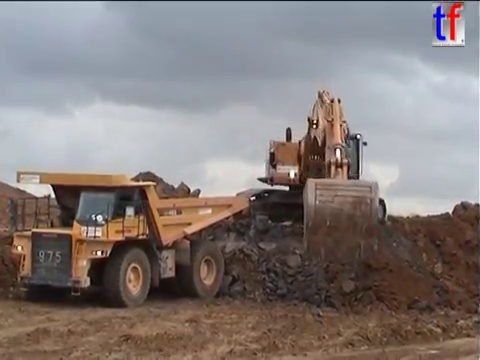excavator: (233, 88, 391, 268)
truck: (6, 168, 251, 309)
